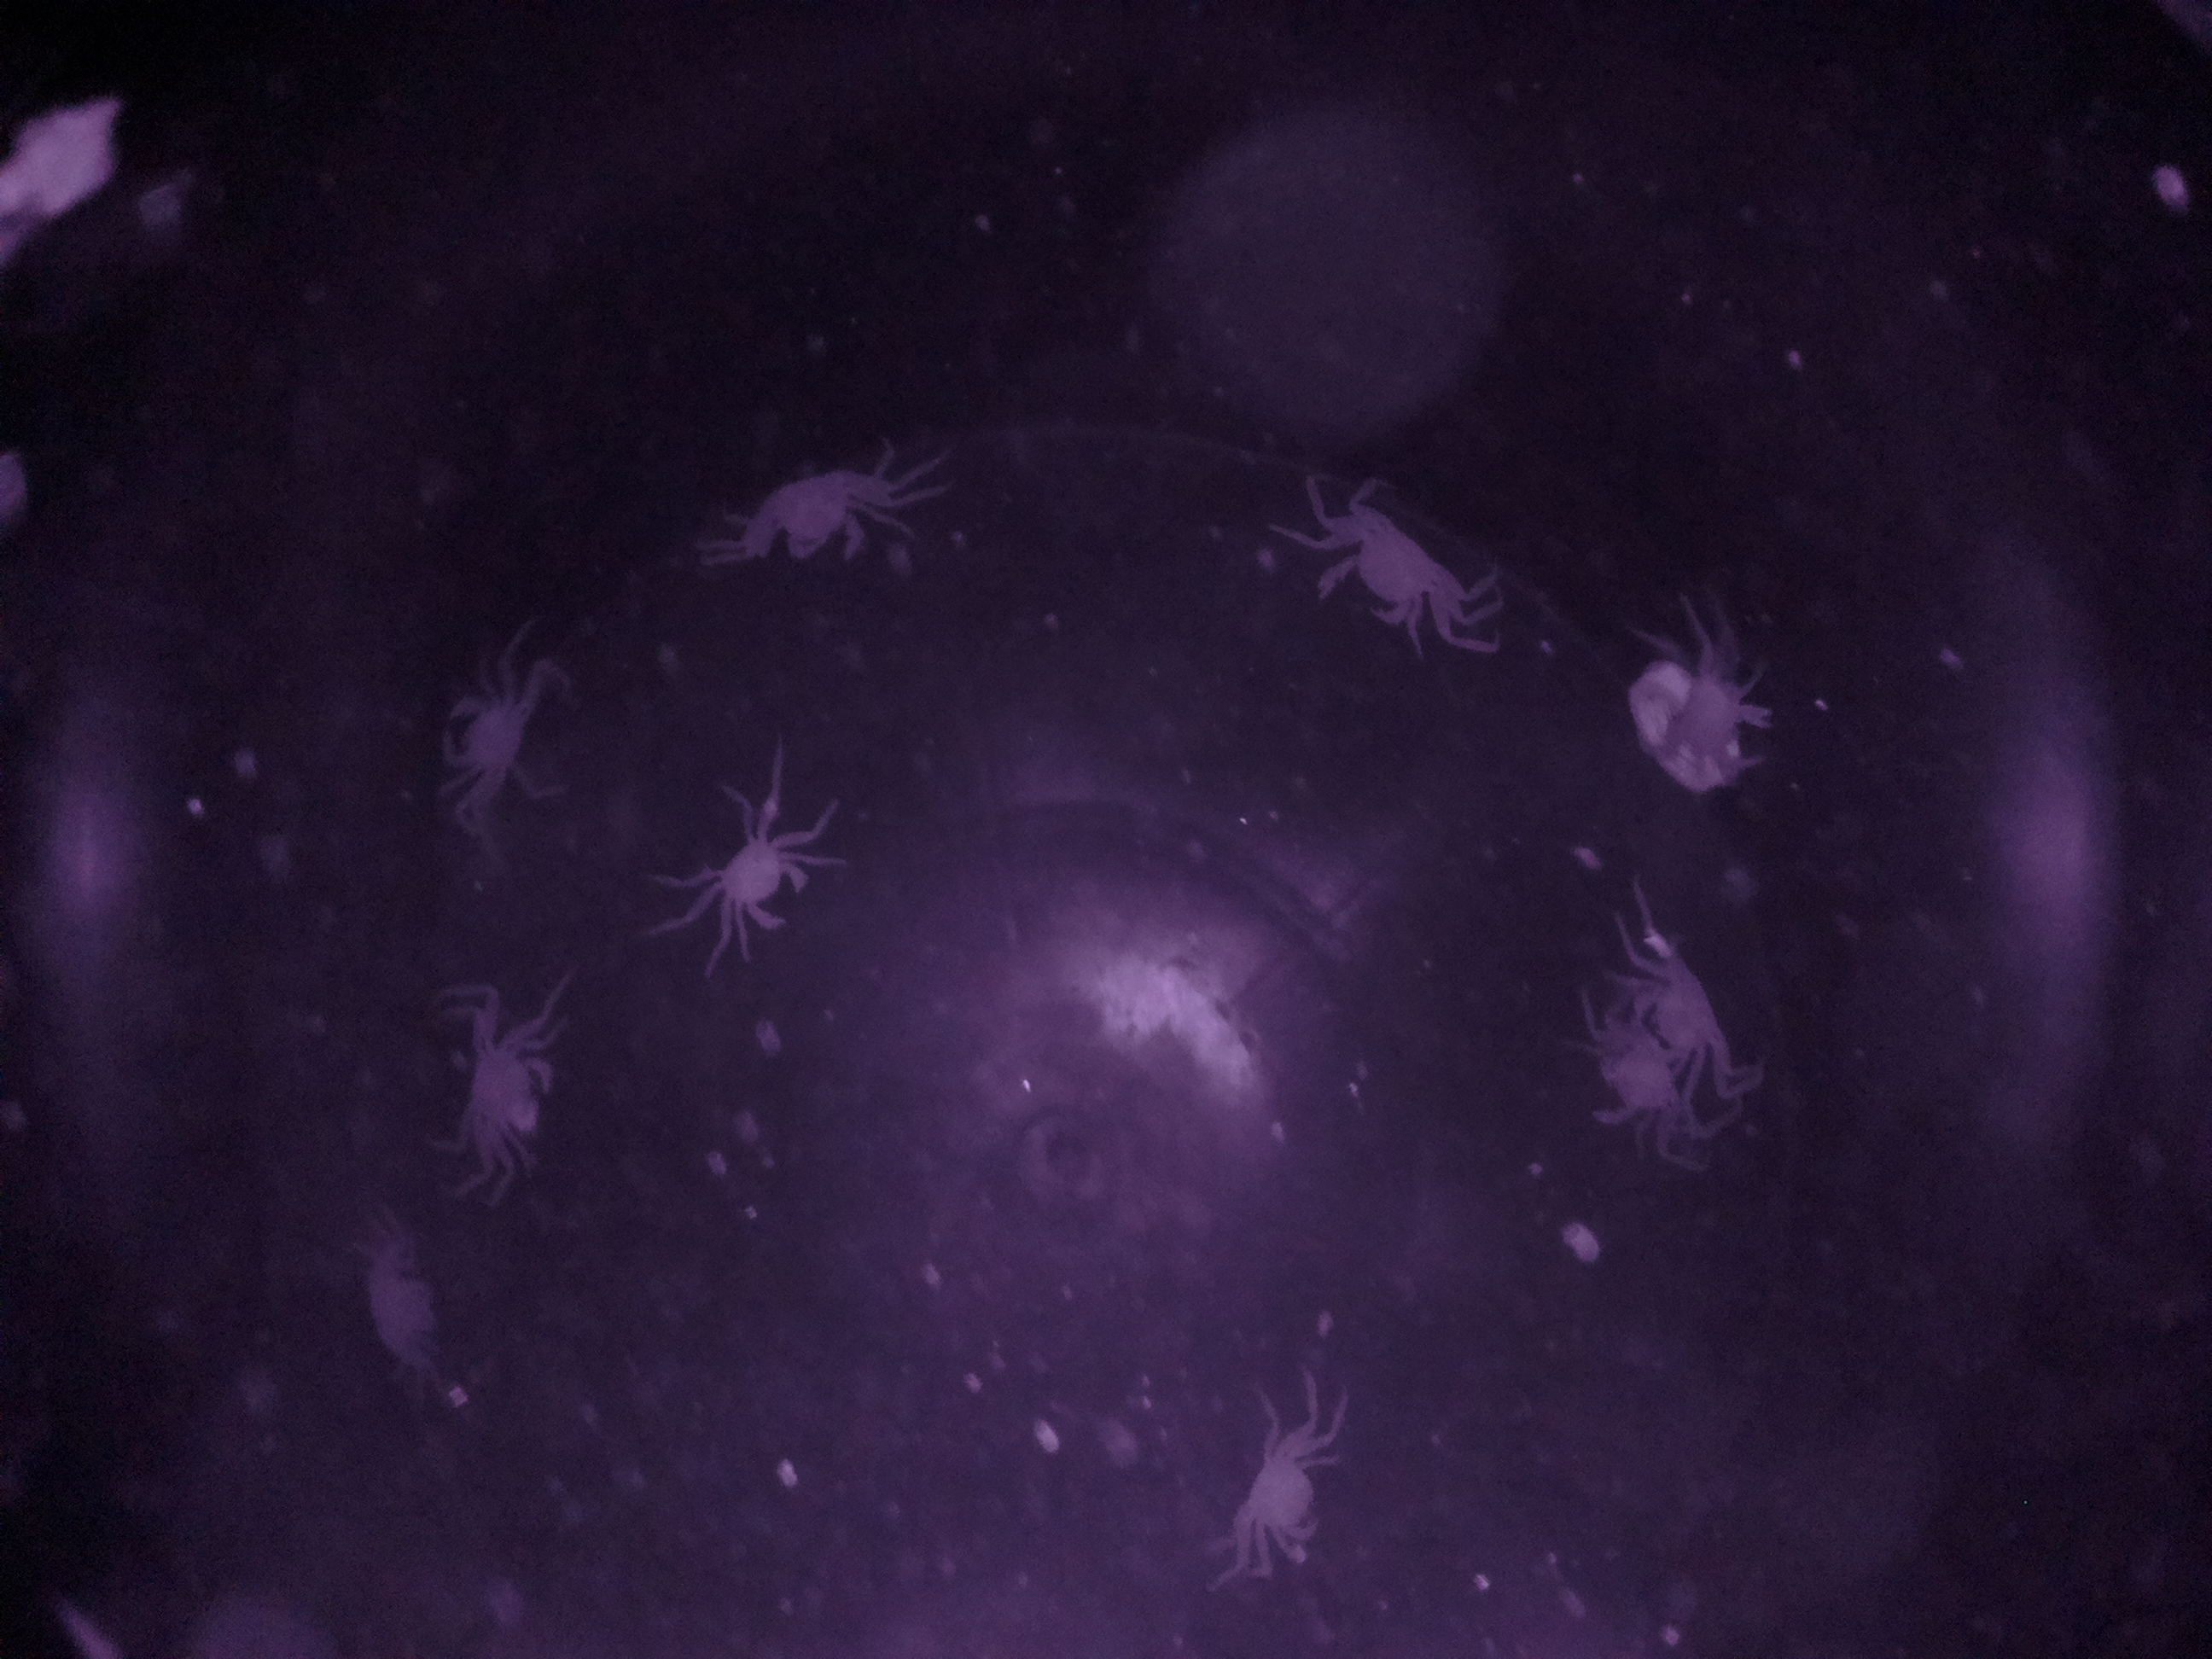Crab: (1296, 481, 1491, 671), (434, 986, 585, 1182), (674, 786, 833, 962), (1205, 1396, 1345, 1593), (737, 441, 909, 592), (416, 650, 559, 831)
